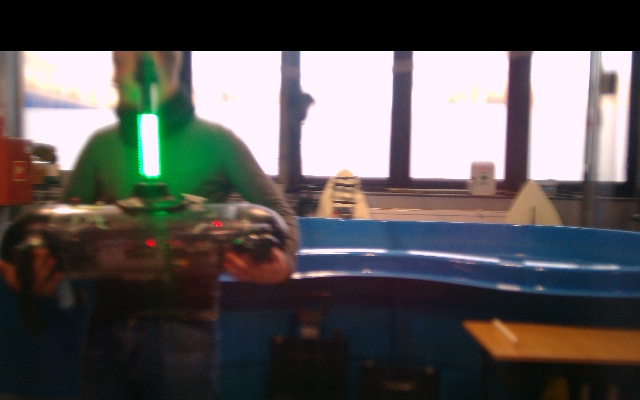green: (136, 111, 161, 181)
